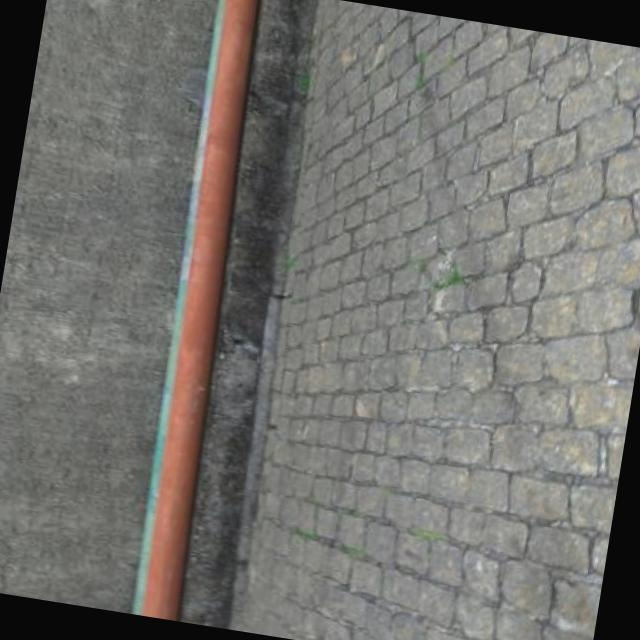gas: (129, 0, 279, 621)
